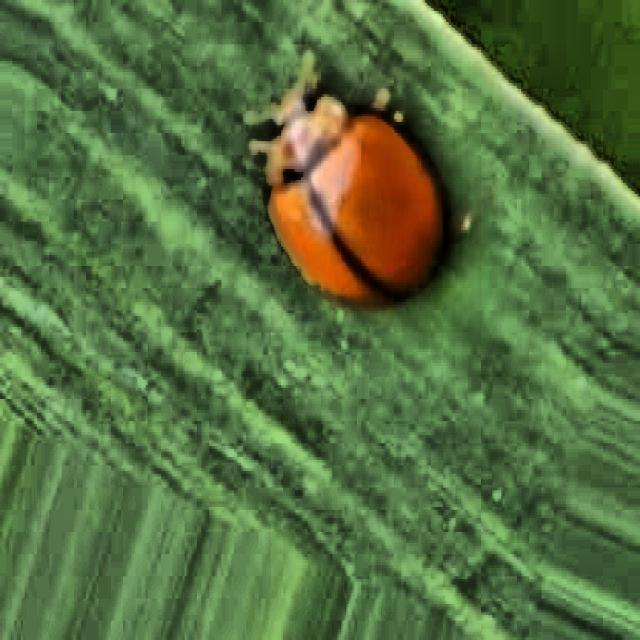Ladybug: (232, 20, 480, 347)
